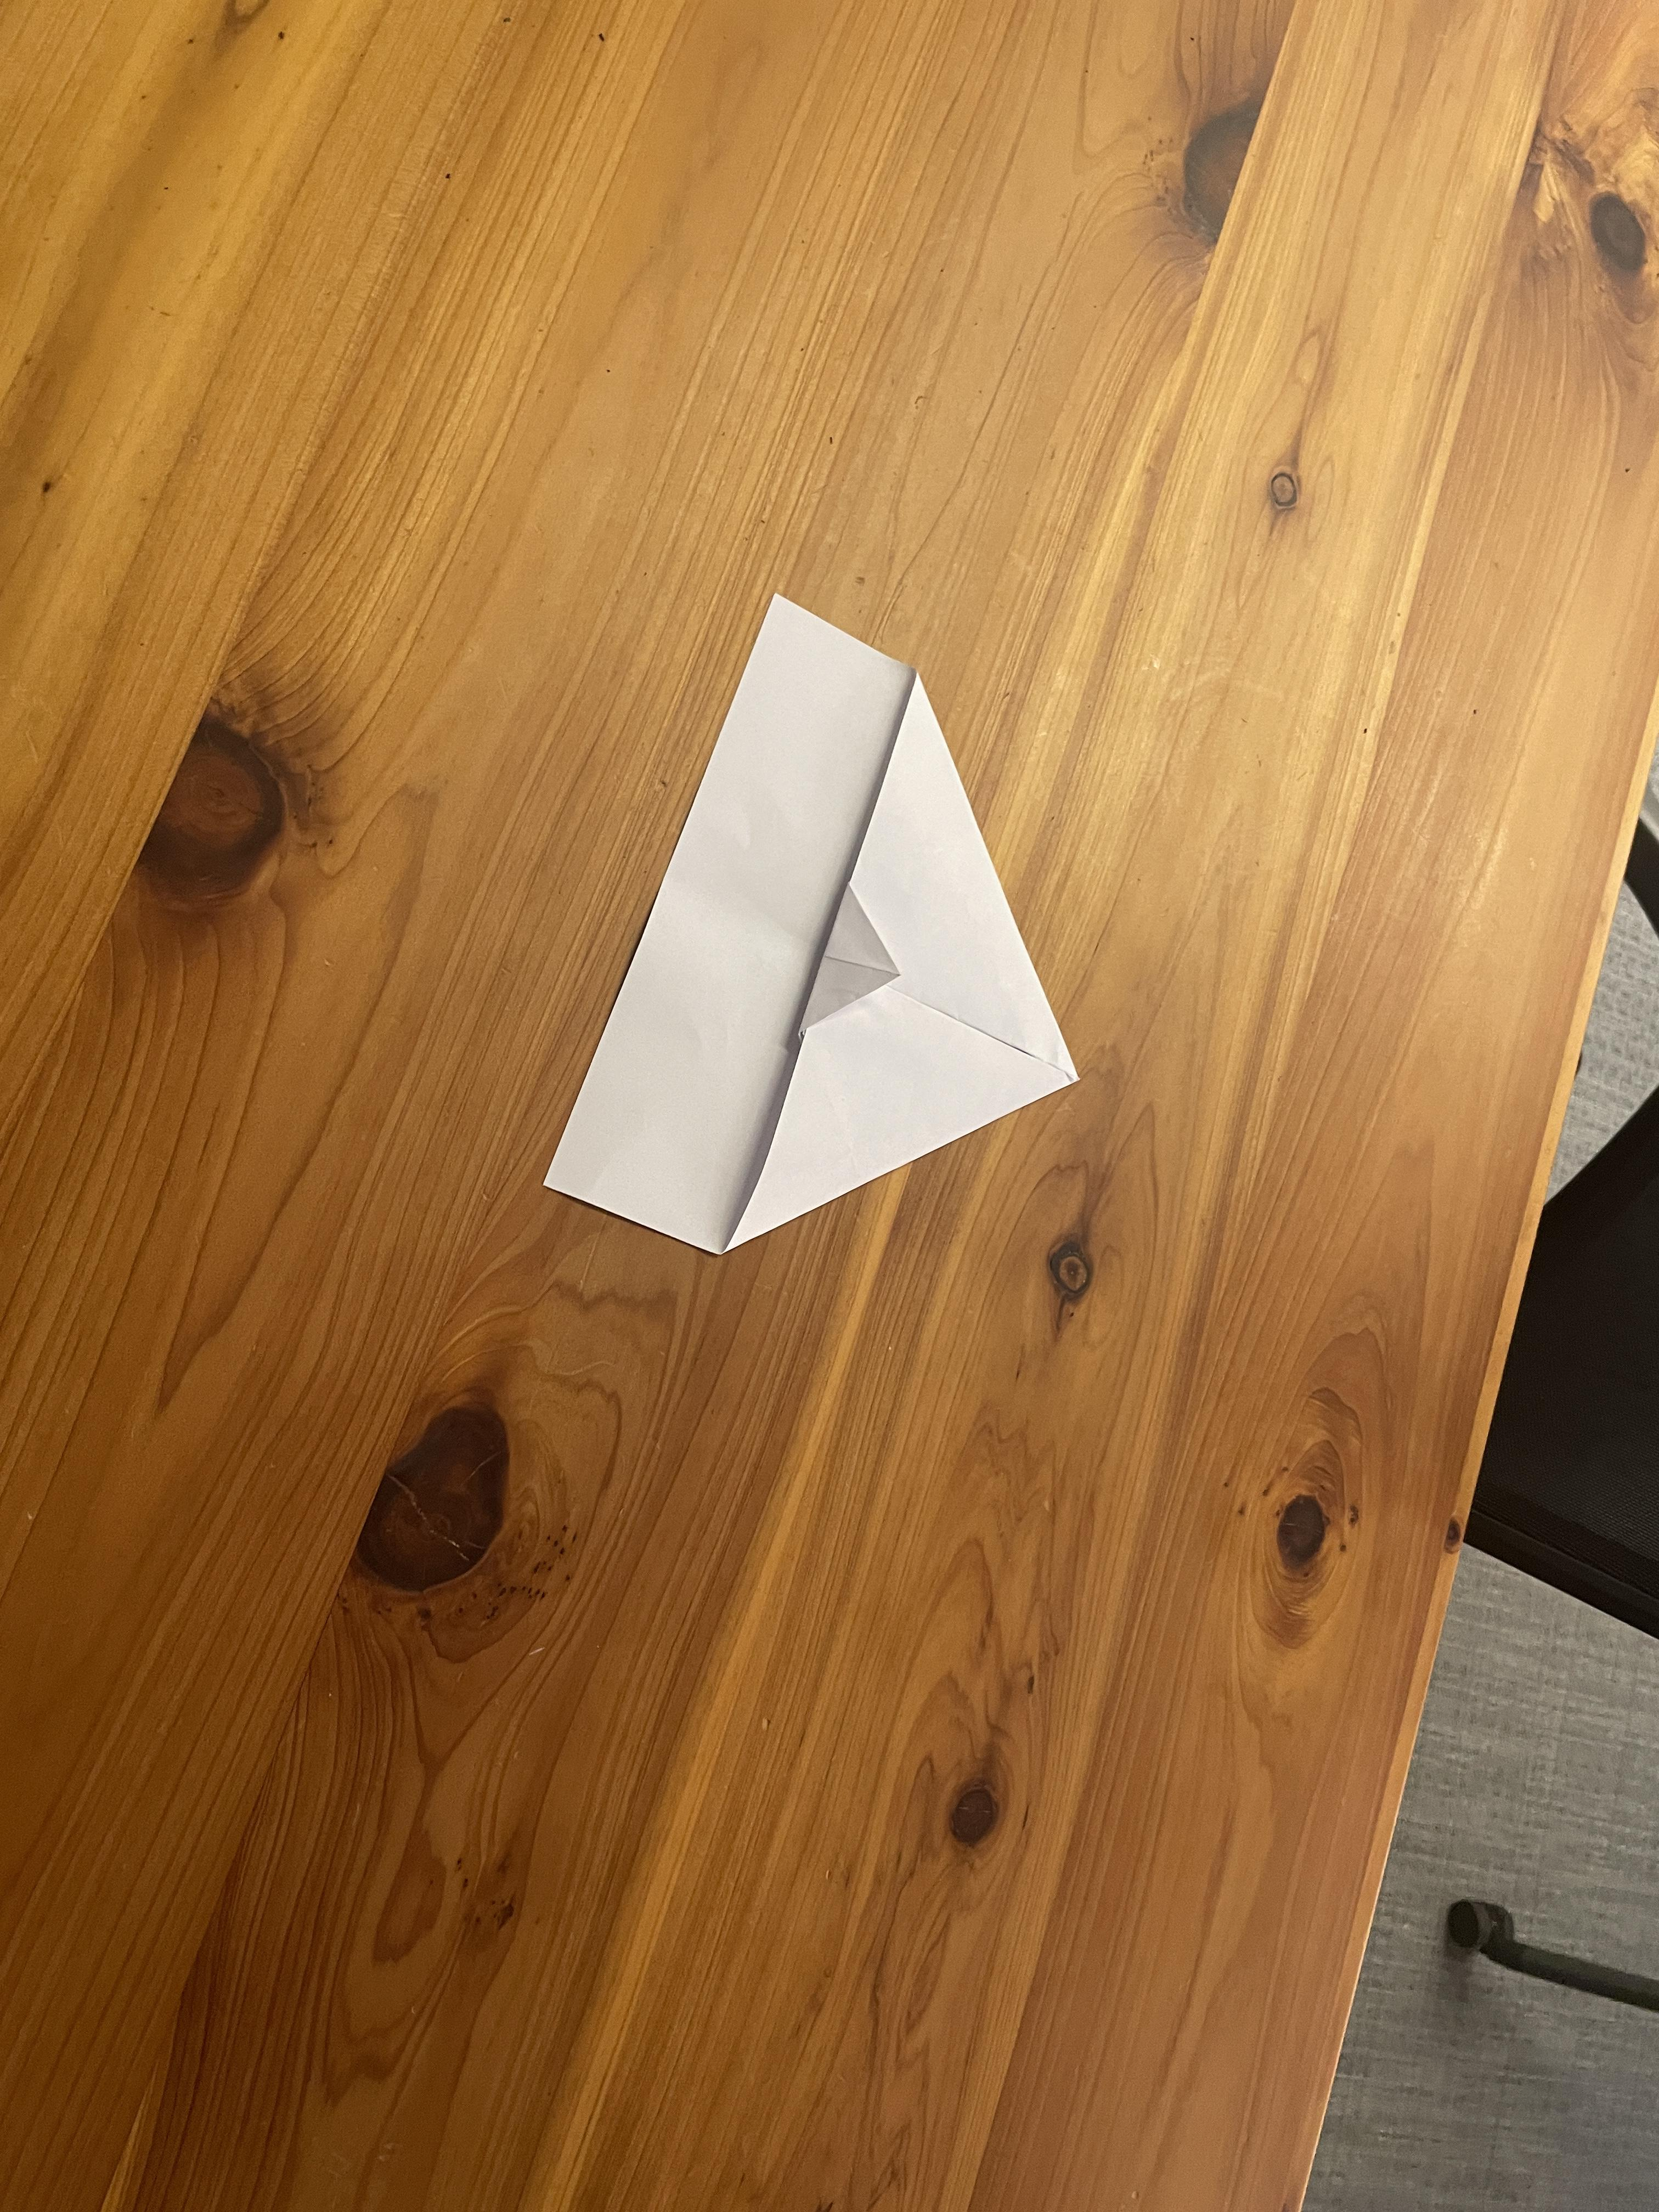shape_2: (455, 385, 1119, 1442)
